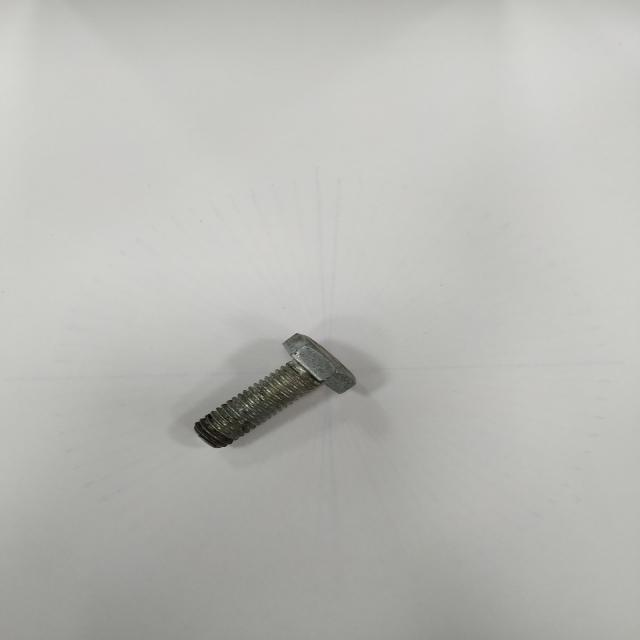Bolt: (195, 334, 355, 448)
